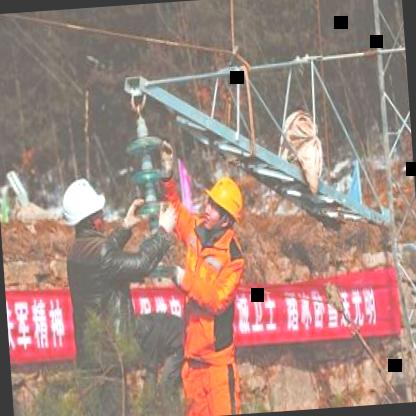helmet: (58, 170, 112, 247), (196, 173, 250, 235)
